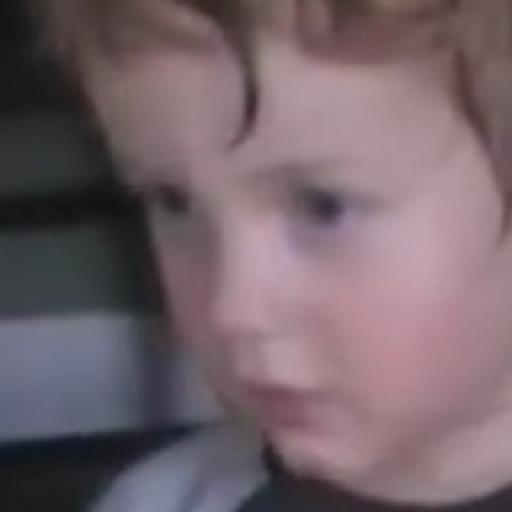Autism: (81, 43, 475, 435)
